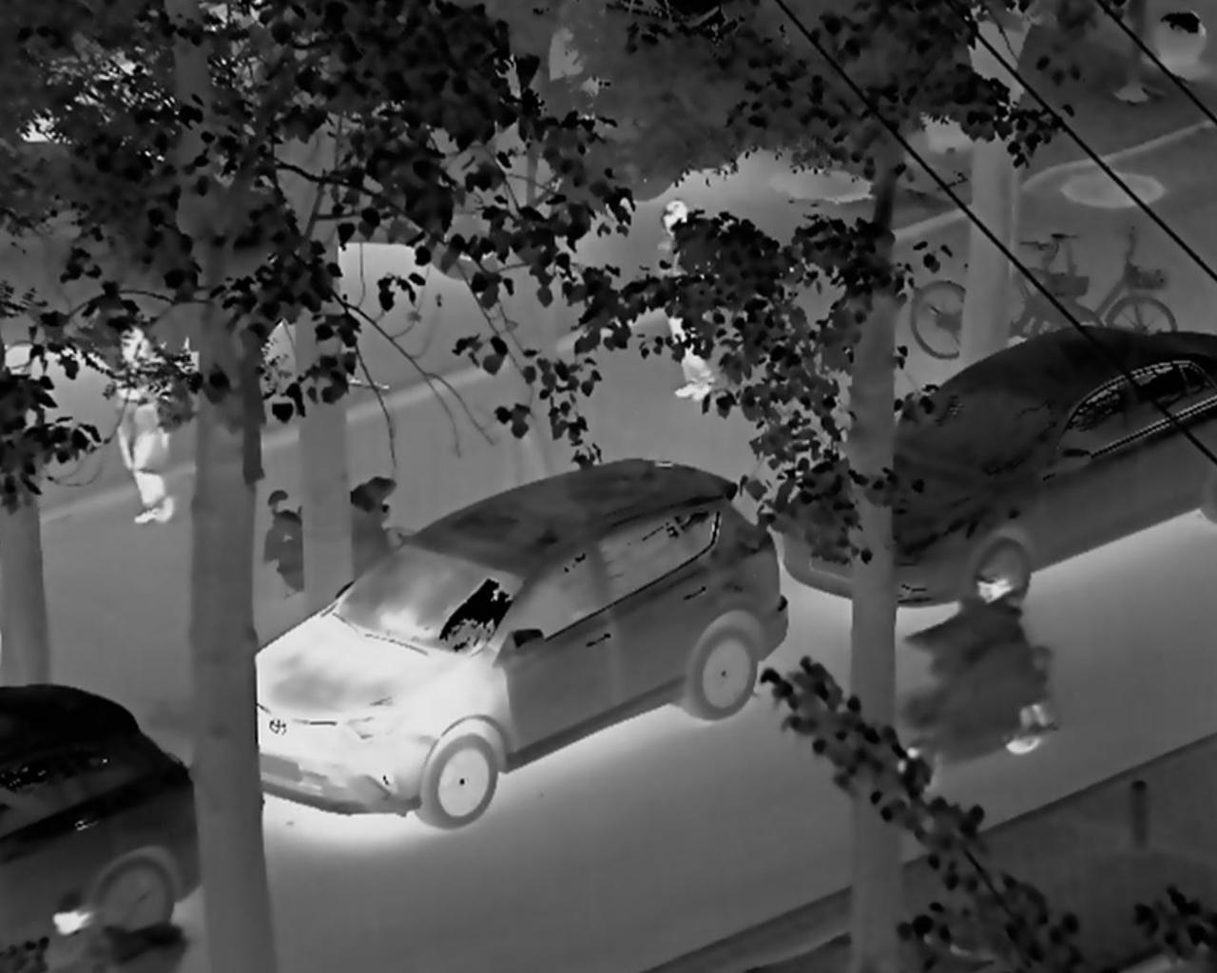person: (640, 190, 728, 417), (114, 308, 184, 541), (942, 570, 1034, 716)
